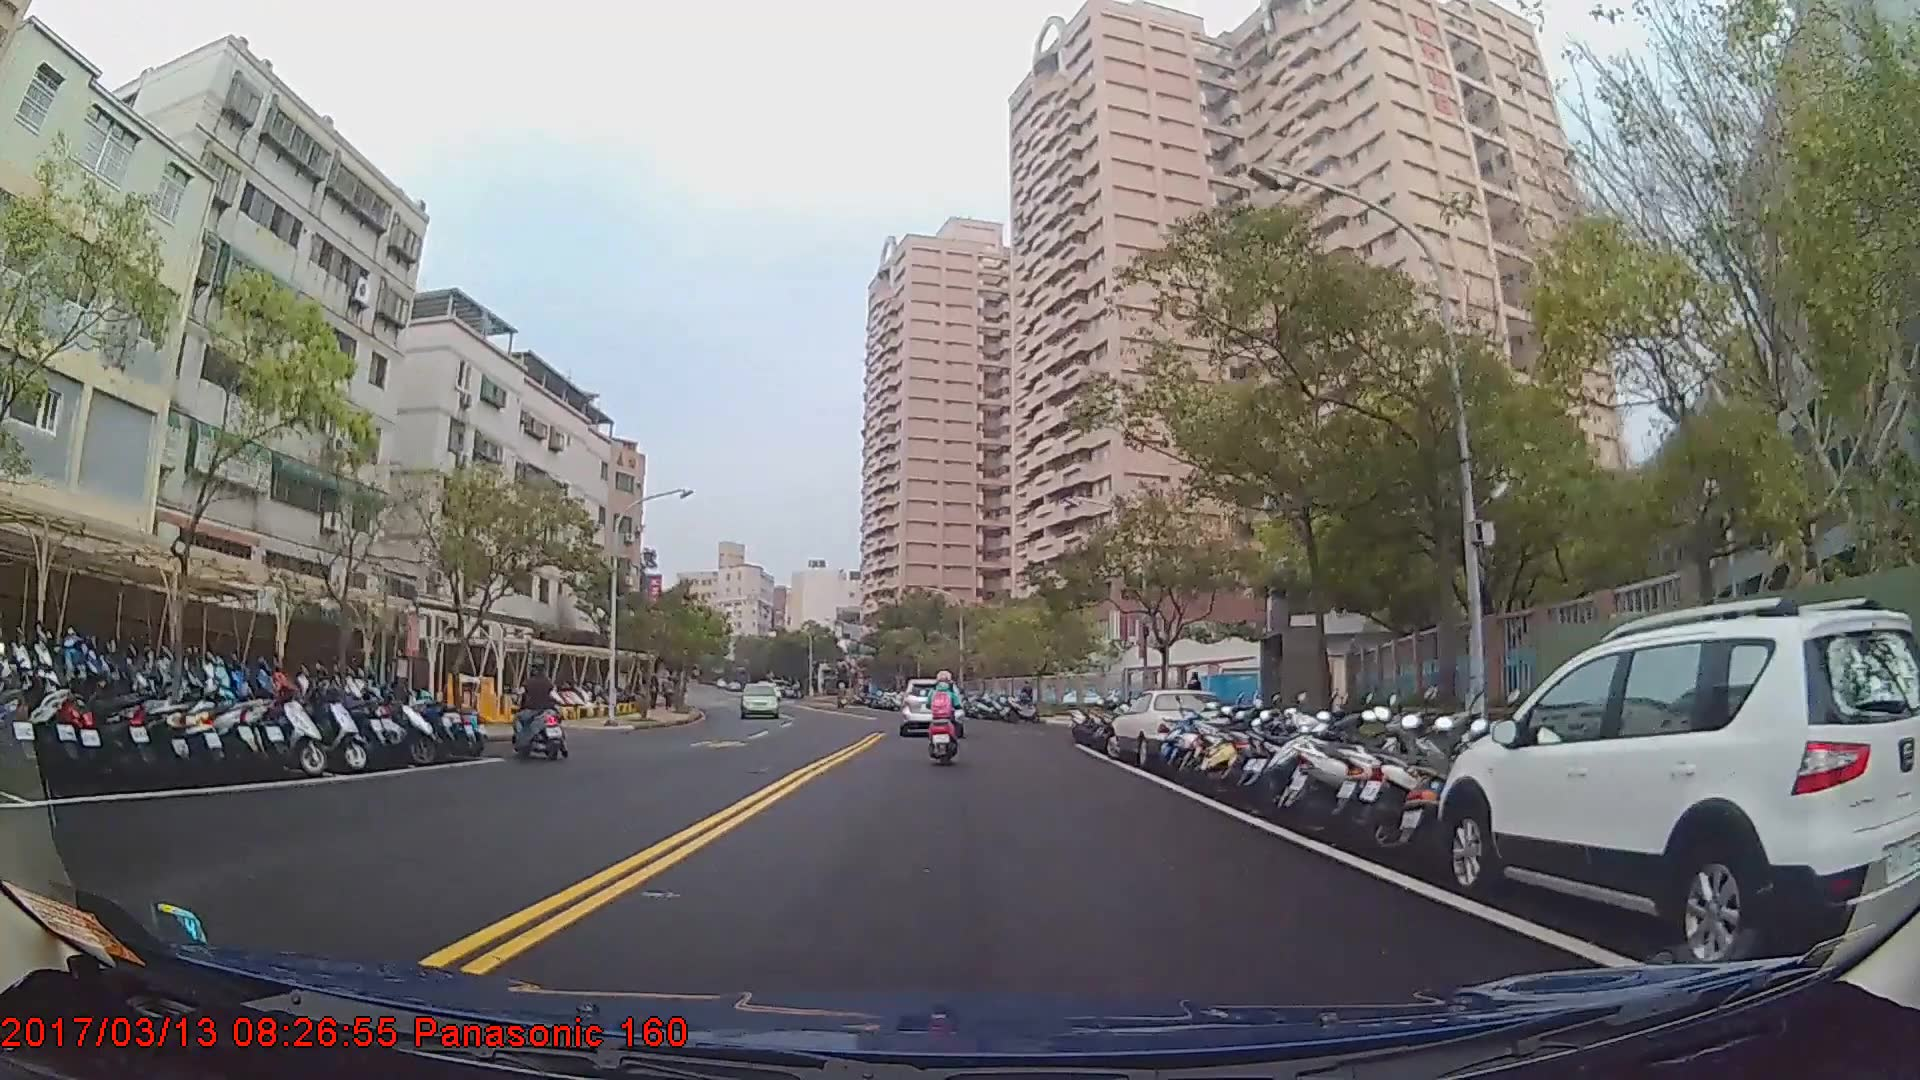rider: (503, 662, 570, 764), (923, 670, 963, 769)
vehicle: (1434, 594, 1920, 970), (1105, 688, 1228, 766), (895, 676, 962, 734), (737, 681, 782, 718)
